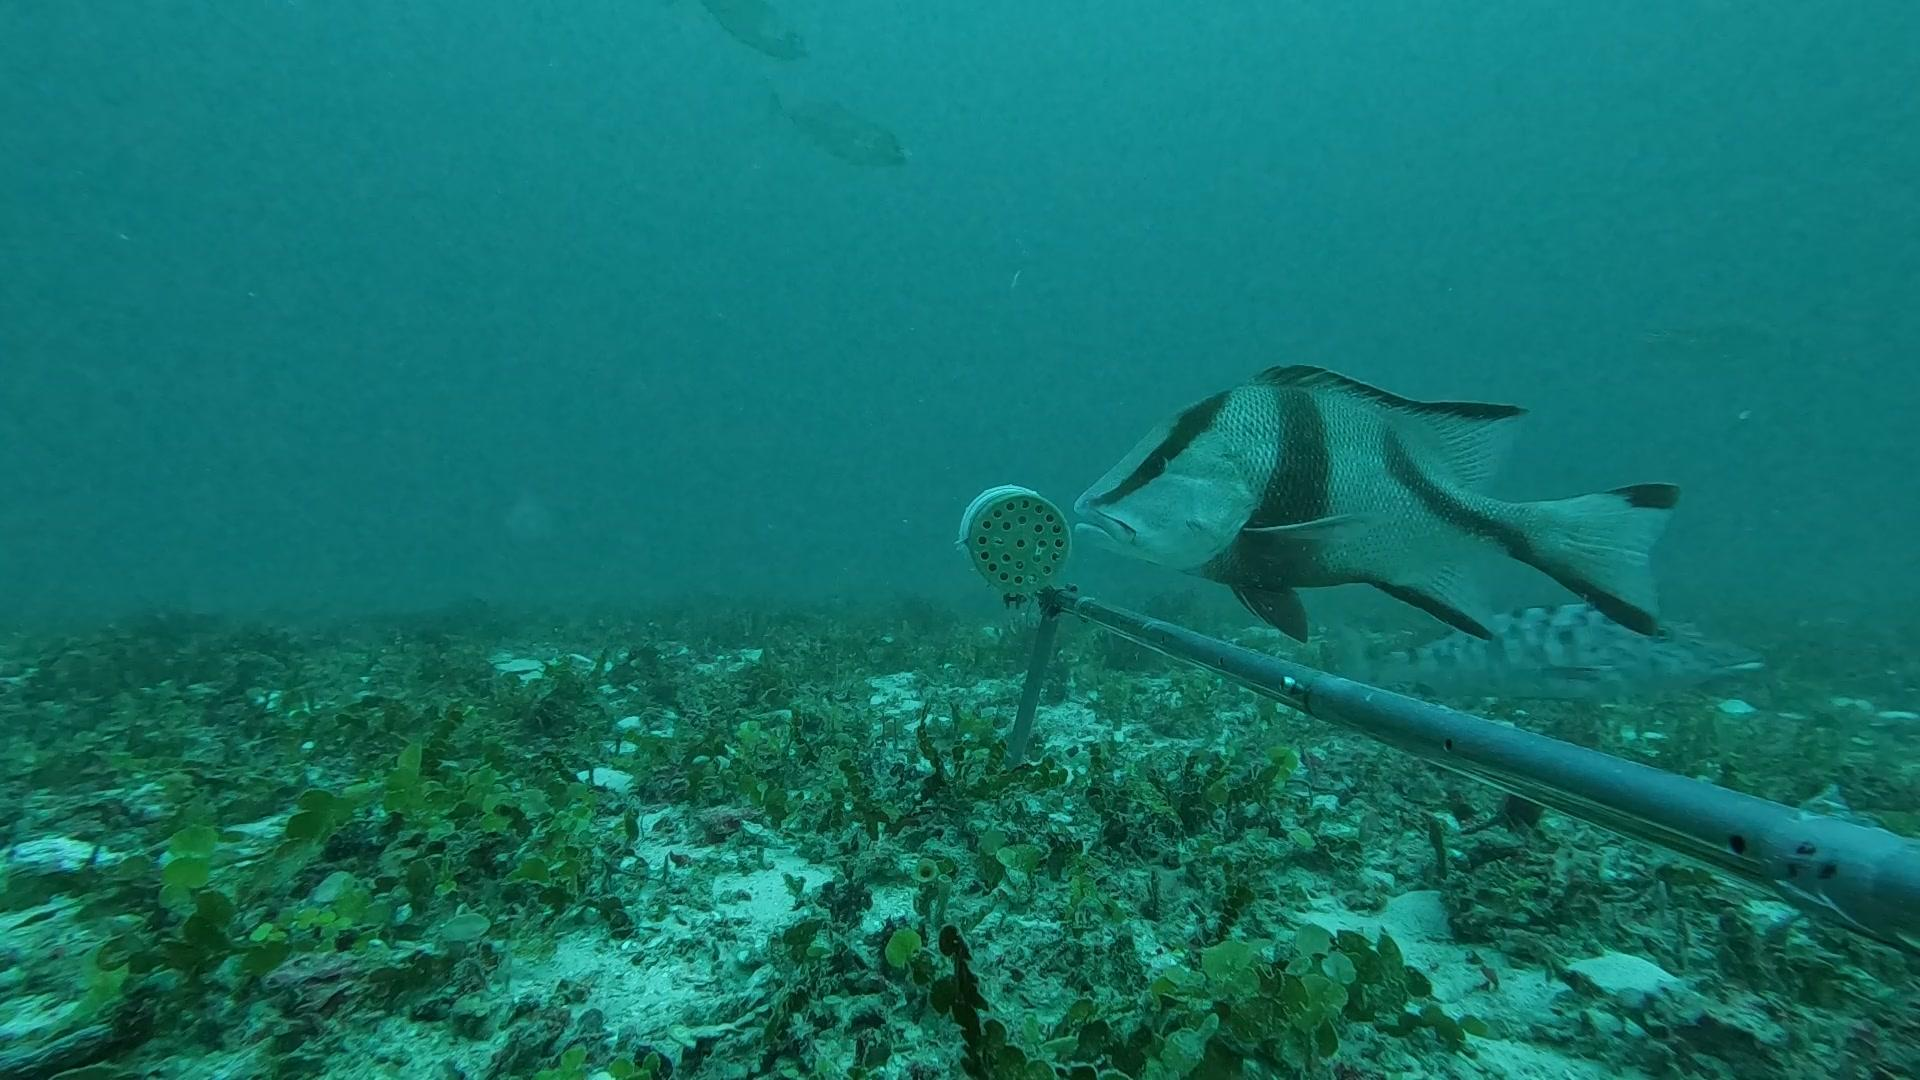fish: (1064, 305, 1702, 608), (1332, 597, 1750, 731), (741, 62, 930, 204), (658, 4, 829, 92)
